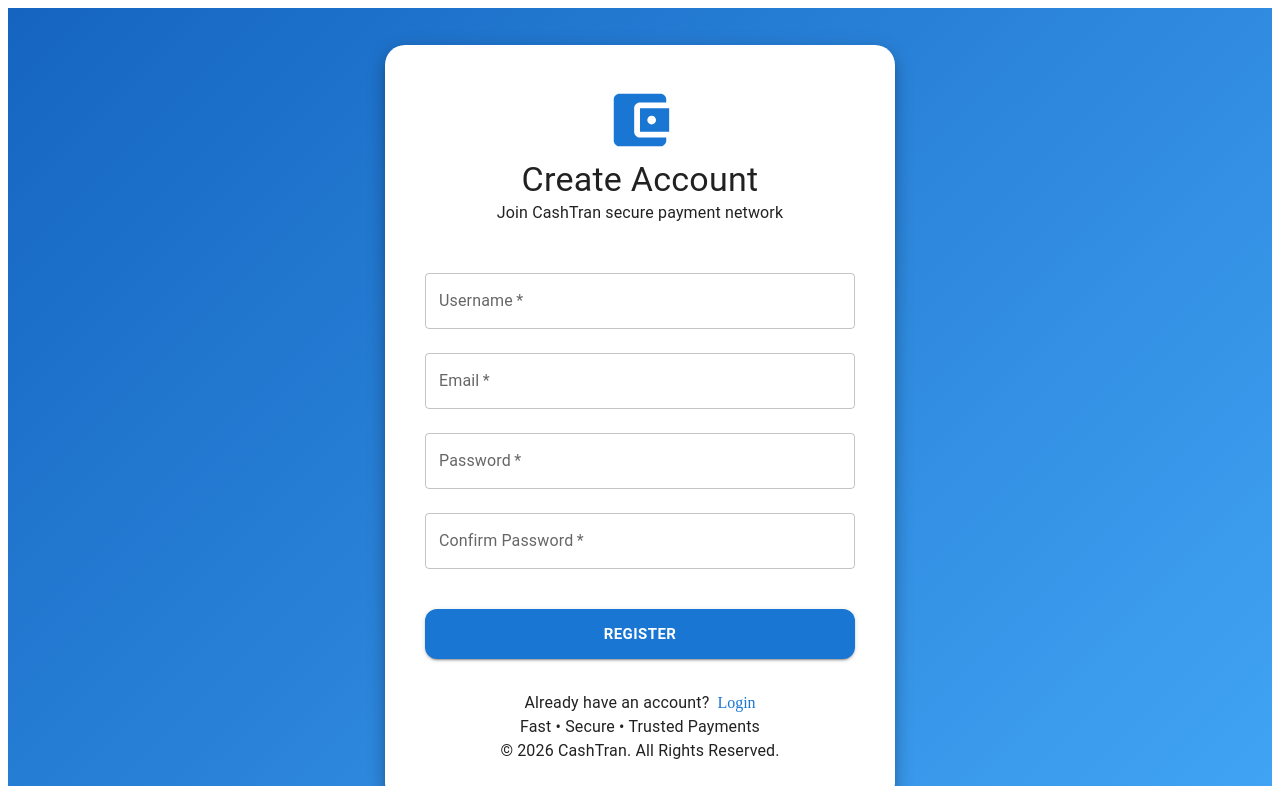
Test: Register › submits valid registration details and shows confirmation
The width and height of the screenshot is (1280, 786).
Type "alice" into the field labelled "Username *" at (640, 301), box [425,273,855,329]
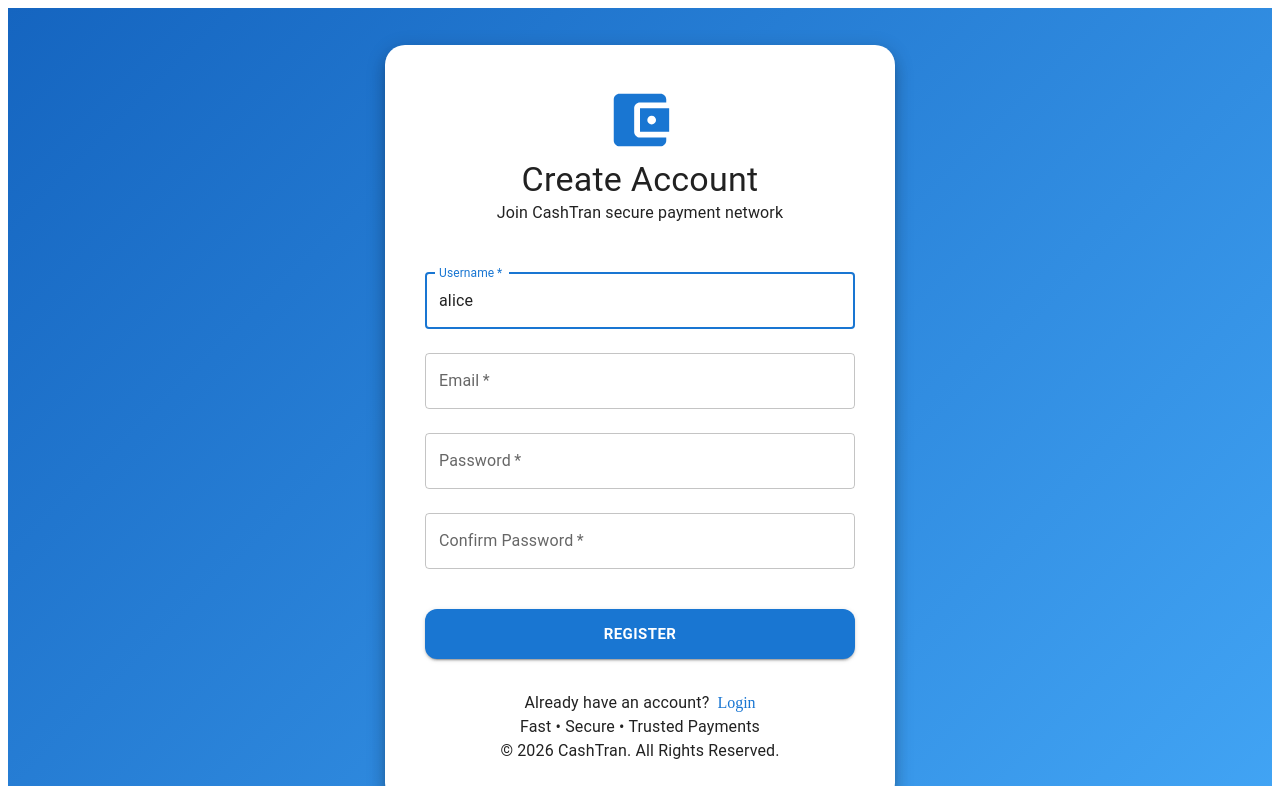
Type "alice@example.com" into the field labelled "Email *" at (640, 381), box [425,353,855,409]
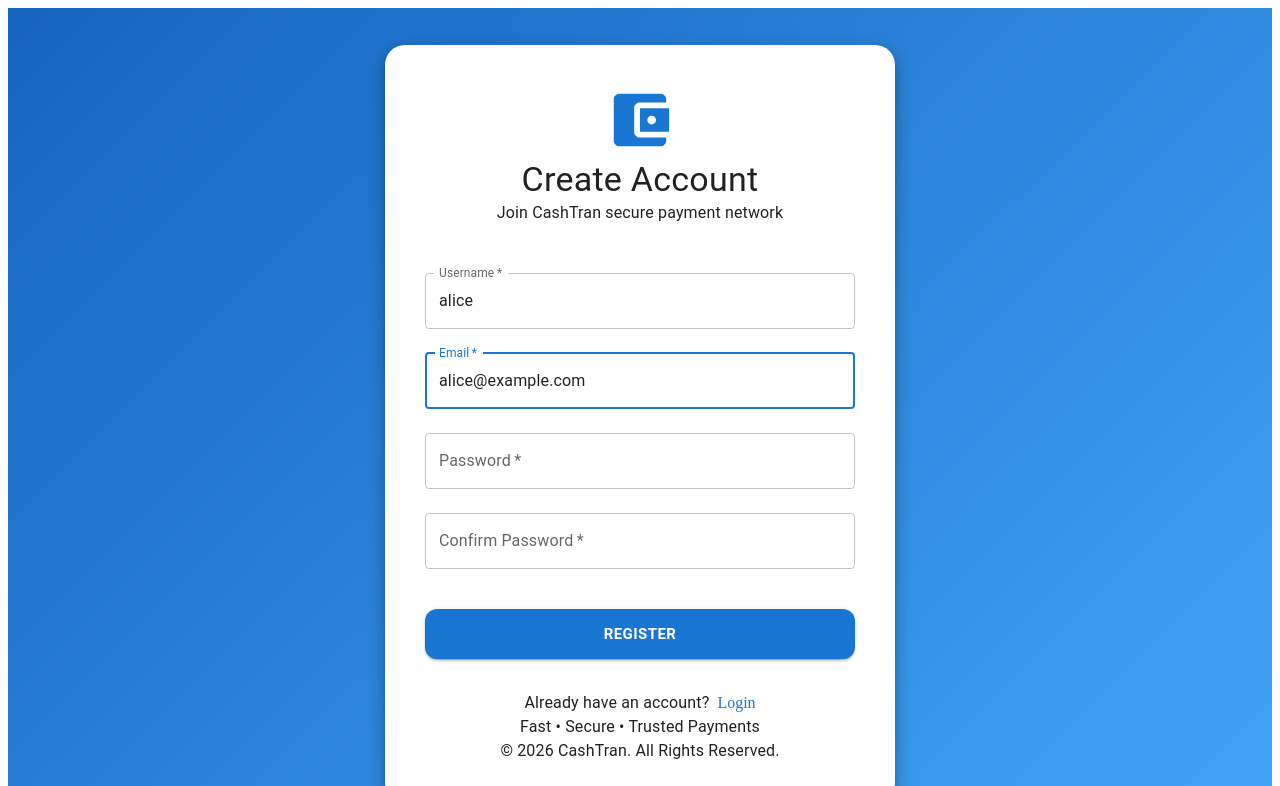
Type "Password1!" into the password field labelled "Password *" at (640, 461), box [425,433,855,489]
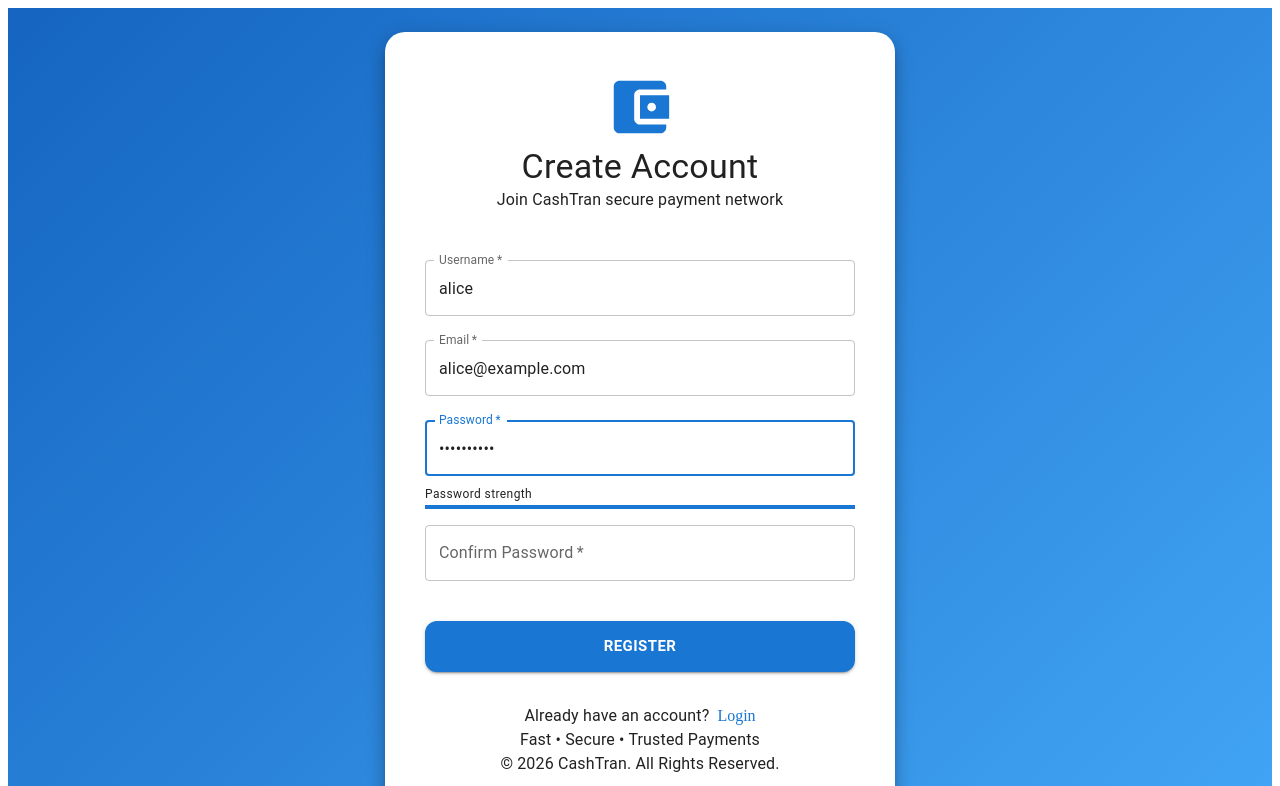
Type "Password1!" into the password field labelled "Confirm Password *" at (640, 553), box [425,525,855,581]
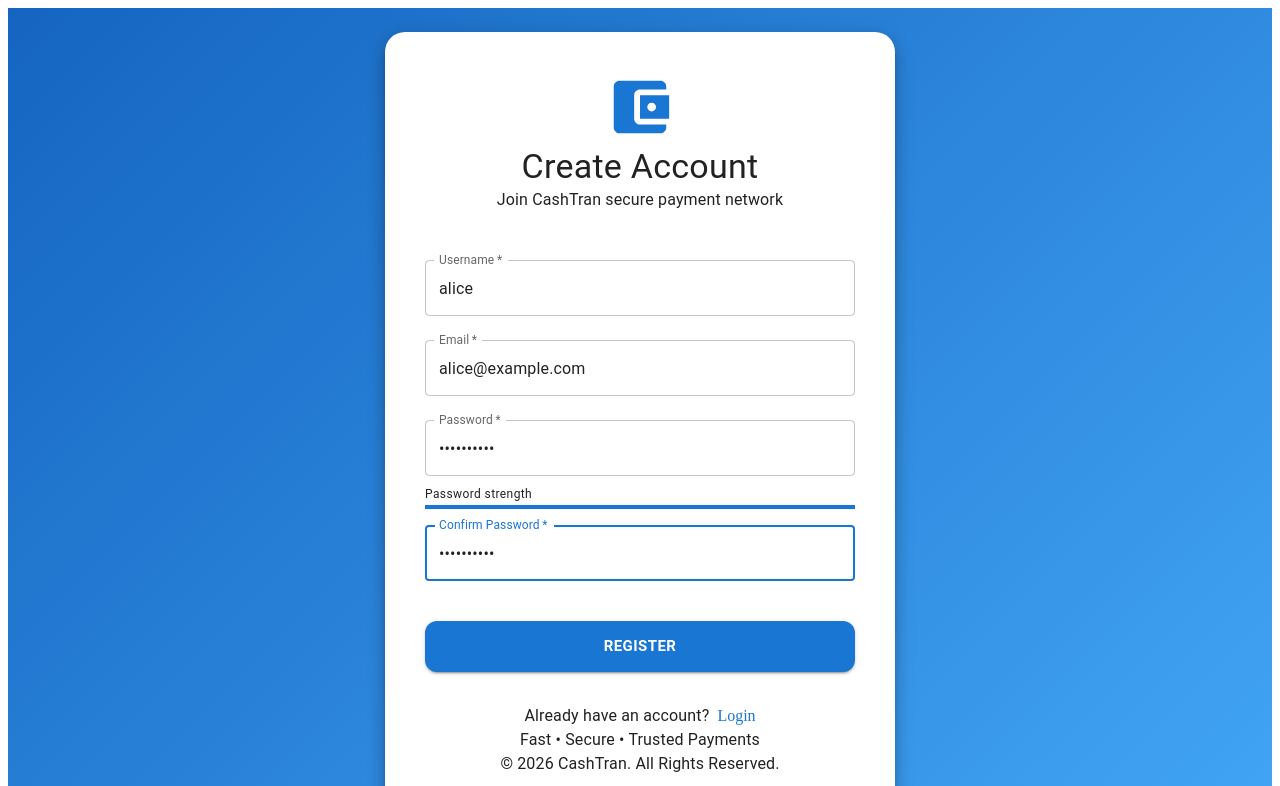
Click the button "Register" at (640, 646), box [425,621,855,672]
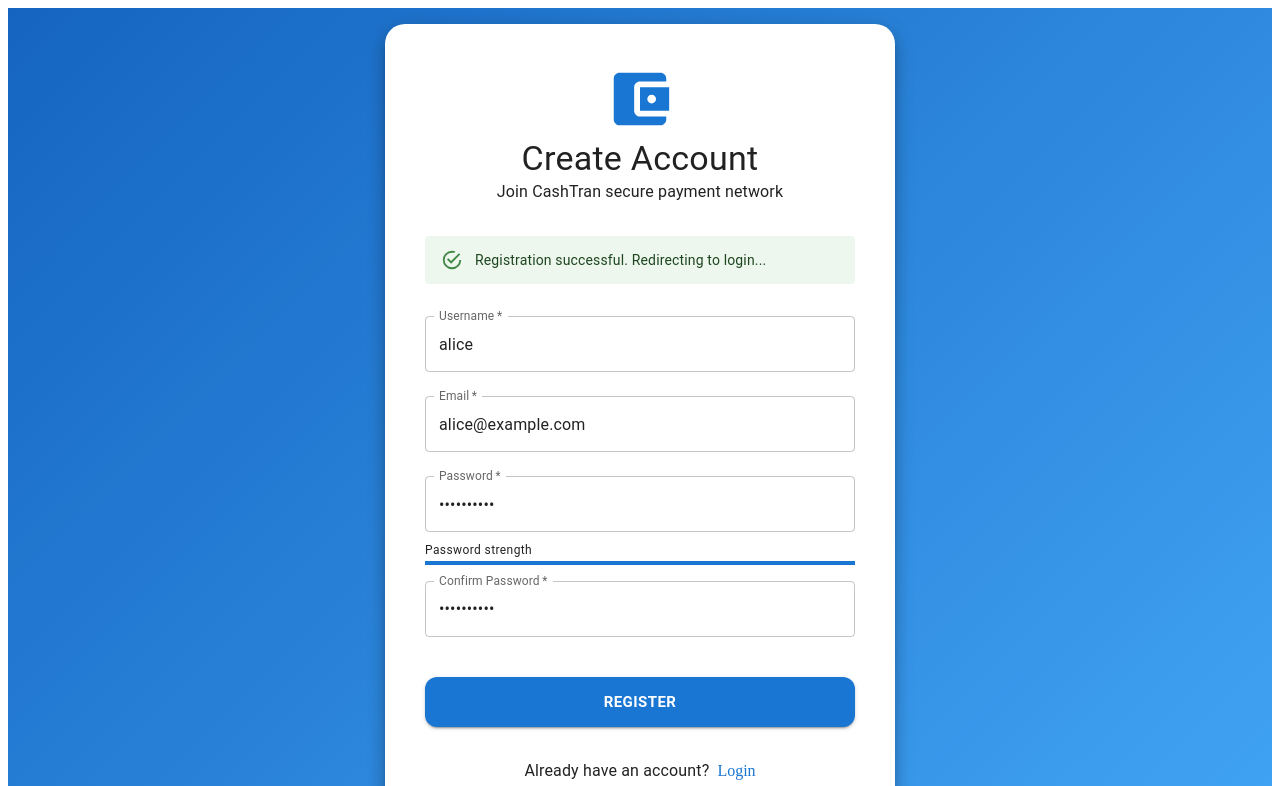
Result: the text "Registration successful. Redirecting to login..." is shown at [475,252,766,268]
